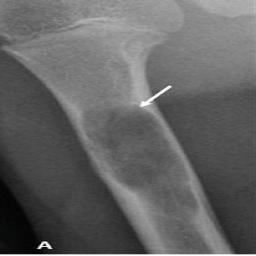cancer: (78, 103, 219, 253)
